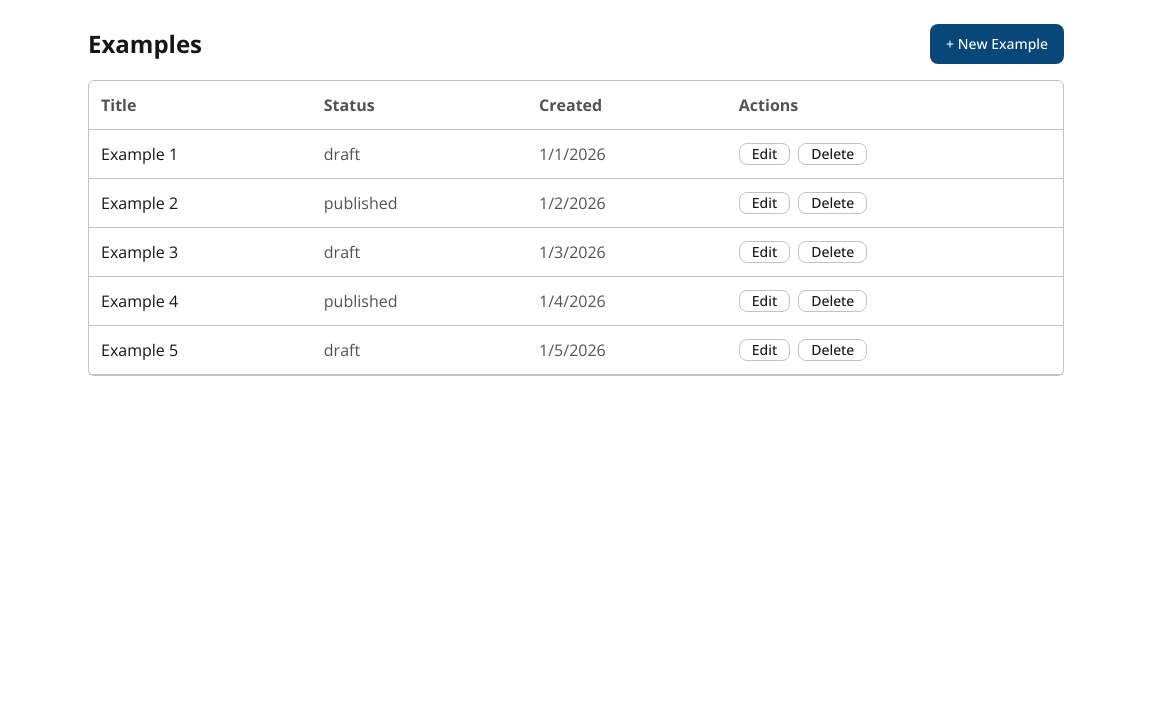
Test case: ExamplesPage › BE가 실패 응답을 반환할 때 toast가 표시된다
This screenshot has width=1152, height=720.
Check: the text "Example 1" is shown, box 89,130 -> 312,178
Click the button "+ New Example". click: coordinates (997, 44)
box: 930,24 -> 1064,64
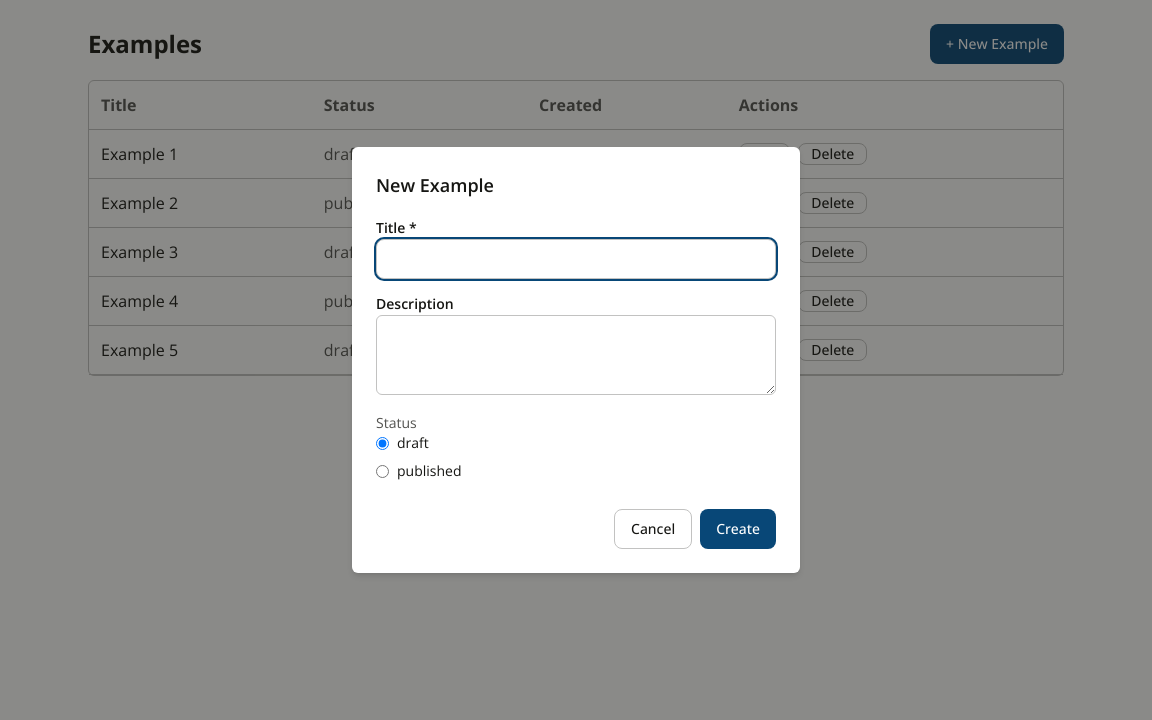
Type "x" into the field labelled "Title *". click: coordinates (576, 259)
box: 376,239 -> 776,279
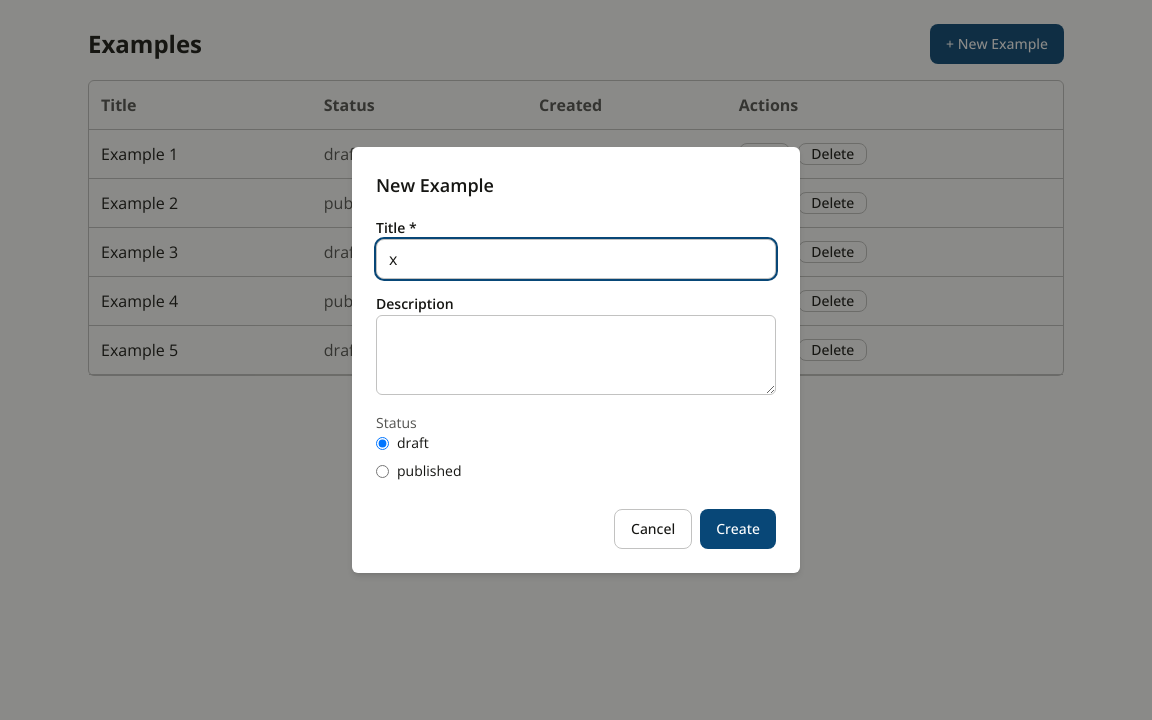
Click the button "Create". click: coordinates (738, 529)
box: 700,509 -> 776,549
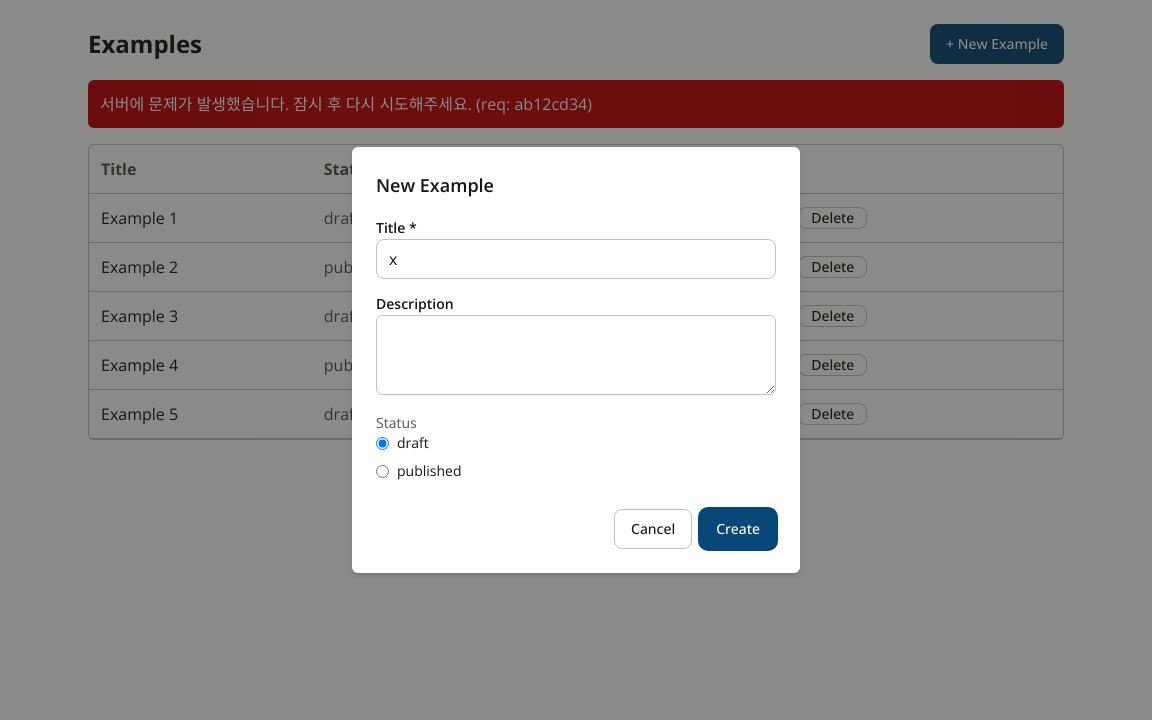
Check: the message shows "(req: ab12cd34)", box 100,93 -> 592,115
